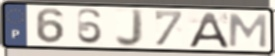6: (34, 7, 66, 45), (76, 8, 104, 47)
7: (153, 9, 185, 48)
A: (186, 11, 231, 49)
J: (114, 8, 146, 49)
M: (227, 12, 269, 50)
